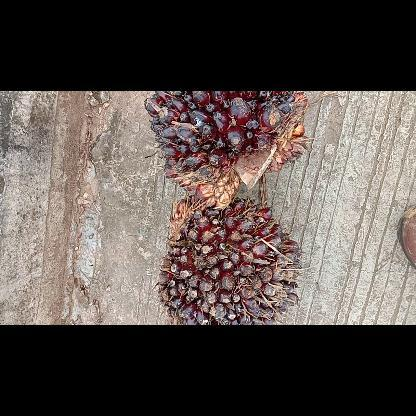TBS mentah: (138, 90, 314, 212), (156, 194, 304, 324)
